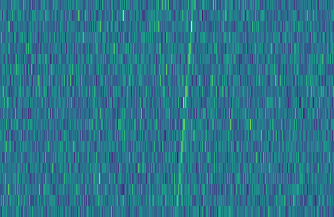signal: (171, 0, 198, 217)
